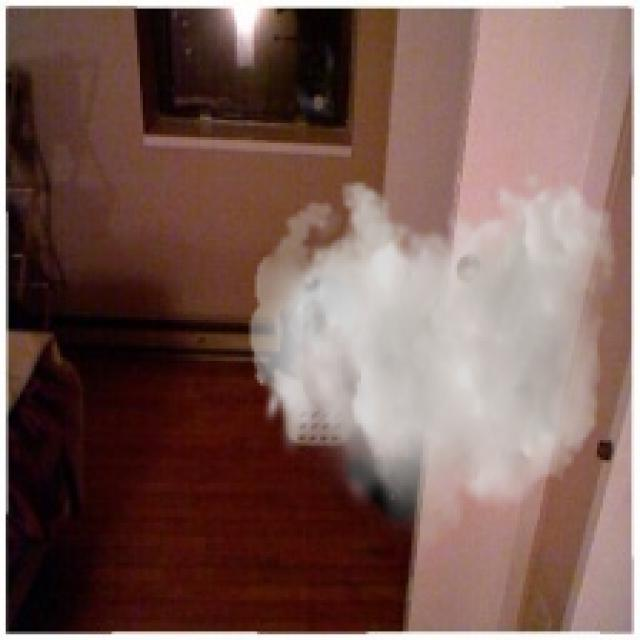smoke: (249, 169, 617, 557)
